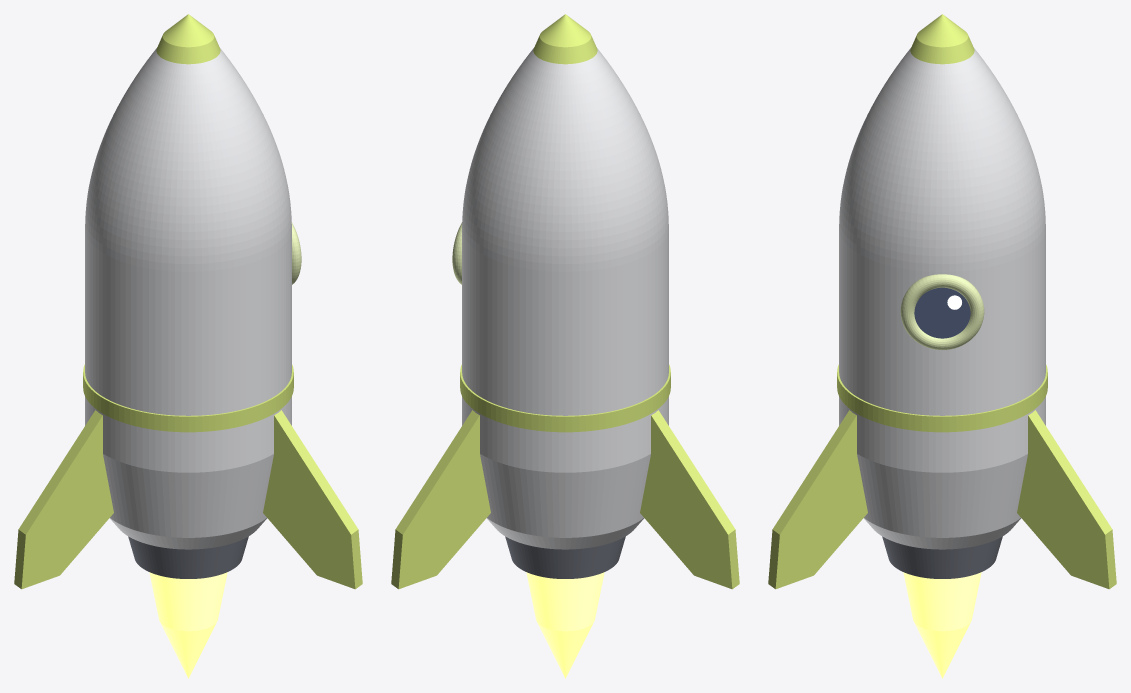
Rendered from pixelcliq-rocket.glb.
3 views of the same model, side by side, from view 1: azimuth 30°, elevation 25°; view 2: azimuth 150°, elevation 25°; view 3: azimuth 270°, elevation 25° (orthographic).
Parts seen in each view (by area): view 1: body, fin_1, fin_2, flame_outer, stripe, nozzle, nose_tip; view 2: body, fin_1, fin_3, flame_outer, stripe, nozzle, nose_tip; view 3: body, fin_2, fin_3, flame_outer, stripe, nozzle, window_ring, nose_tip, window_glass.
Boxes of the visible parts, <box> form: body: <box>85,48,291,549</box>; fin_1: <box>14,410,113,589</box>; fin_2: <box>263,410,362,589</box>; flame_outer: <box>149,572,227,678</box>; stripe: <box>83,364,293,432</box>; nozzle: <box>128,536,248,578</box>; nose_tip: <box>156,14,220,64</box>; body: <box>462,48,668,549</box>; fin_1: <box>640,410,739,589</box>; fin_3: <box>391,410,490,589</box>; flame_outer: <box>526,572,604,678</box>; stripe: <box>460,364,670,432</box>; nozzle: <box>505,536,625,578</box>; nose_tip: <box>533,14,597,64</box>; body: <box>839,48,1045,549</box>; fin_2: <box>768,410,867,589</box>; fin_3: <box>1017,410,1116,589</box>; flame_outer: <box>903,572,981,678</box>; stripe: <box>837,364,1047,432</box>; nozzle: <box>882,536,1002,578</box>; window_ring: <box>900,274,984,349</box>; nose_tip: <box>910,14,974,64</box>; window_glass: <box>914,287,970,338</box>.
Bounding box in the file's own units: 1.27 × 2.98 × 1.42.
